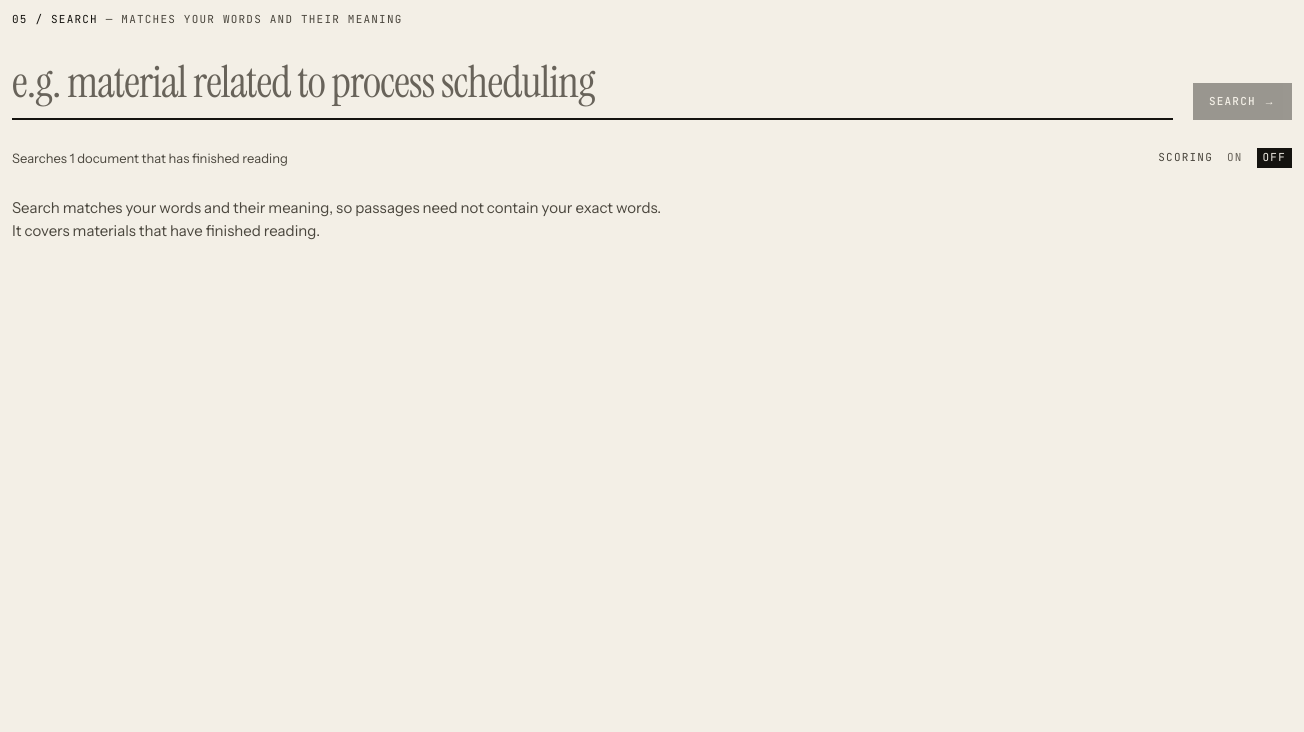
Search › shows the picture of a figure it found, marked as read by the model
This screenshot has width=1304, height=732.
Type "data pipeline" into the search field named "Search this environment's materials" at (592, 88), box [12,55,1173,120]
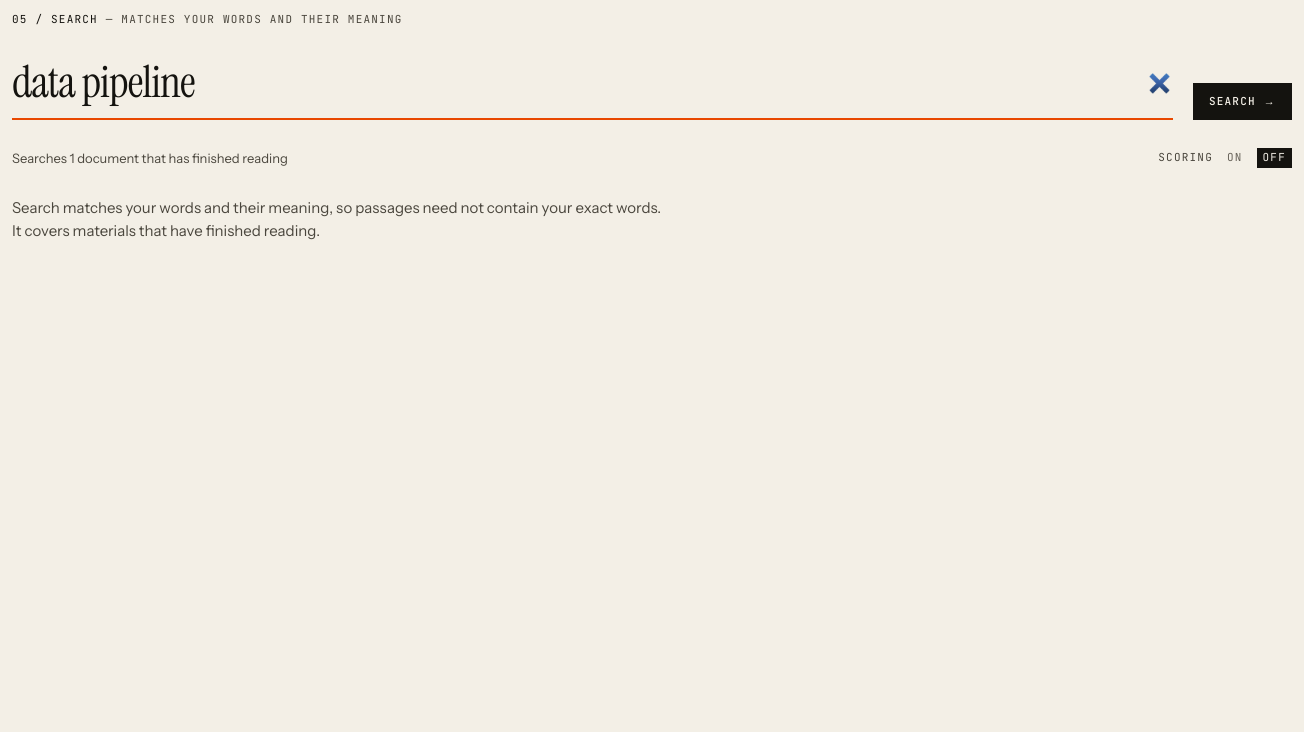
Click the button "Search →" at (1242, 102), box [1193,83,1292,120]
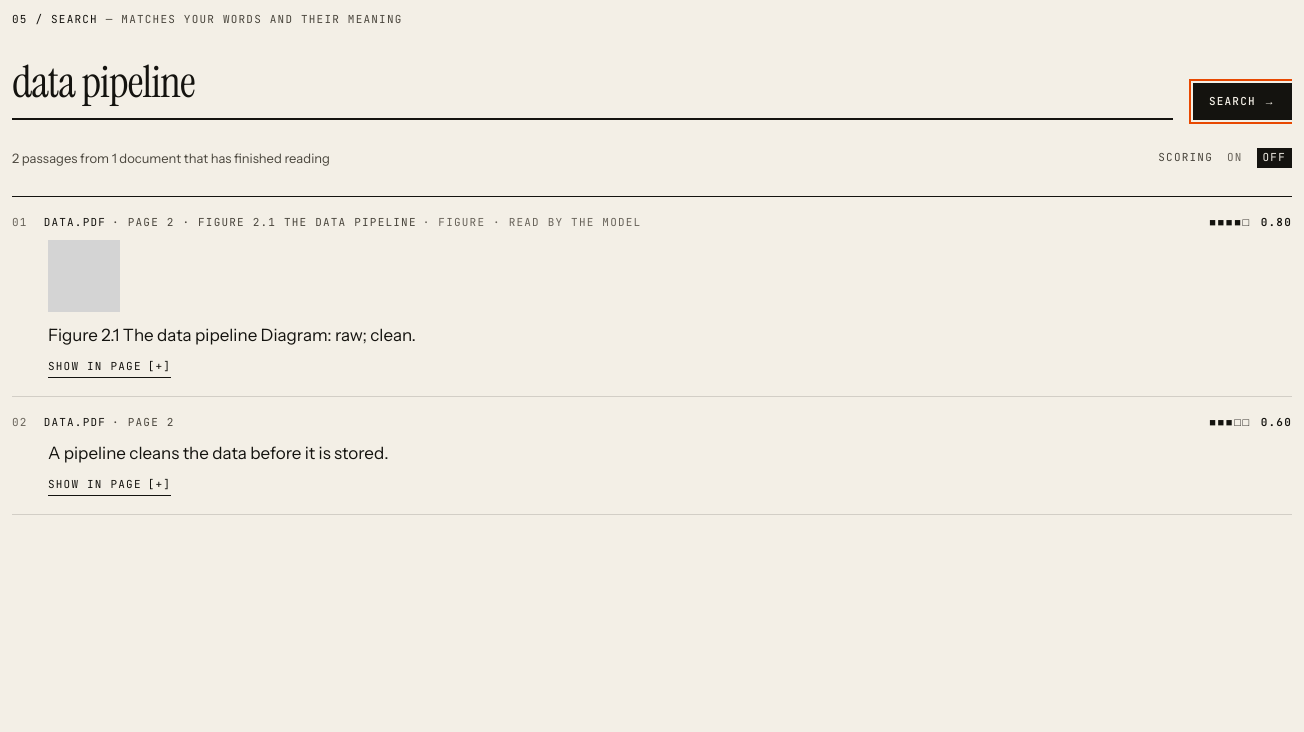
expect the text "Figure · read by the model" is shown: met, box [438,215,641,229]
